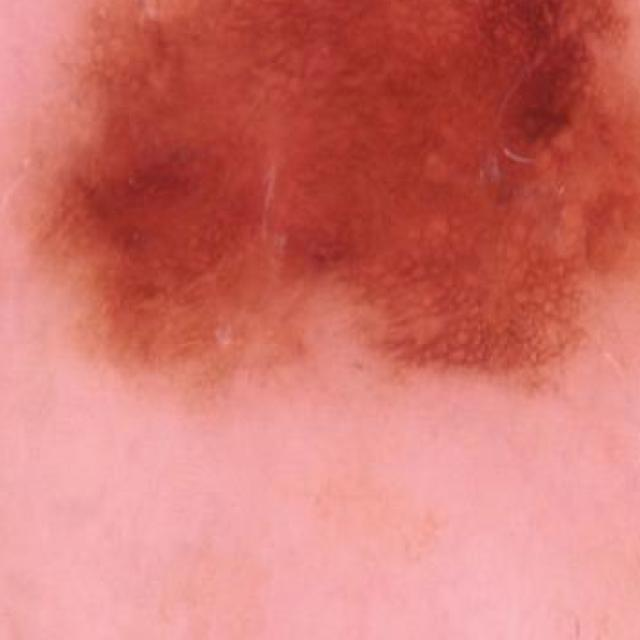NV: (38, 0, 640, 425)
